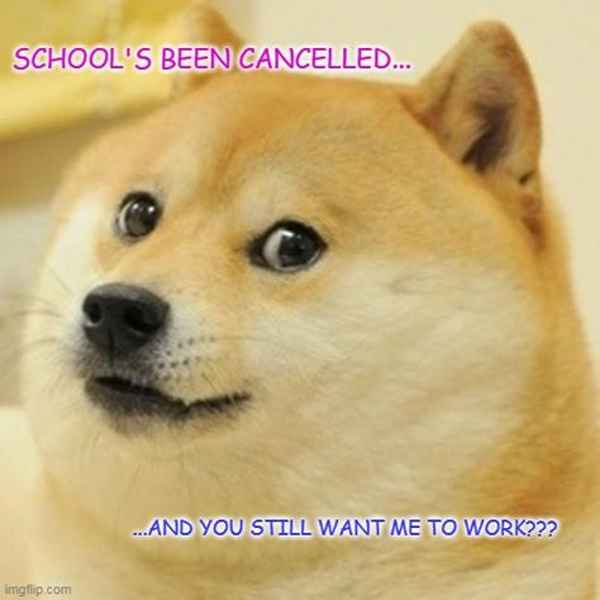doge: (32, 29, 526, 543)
